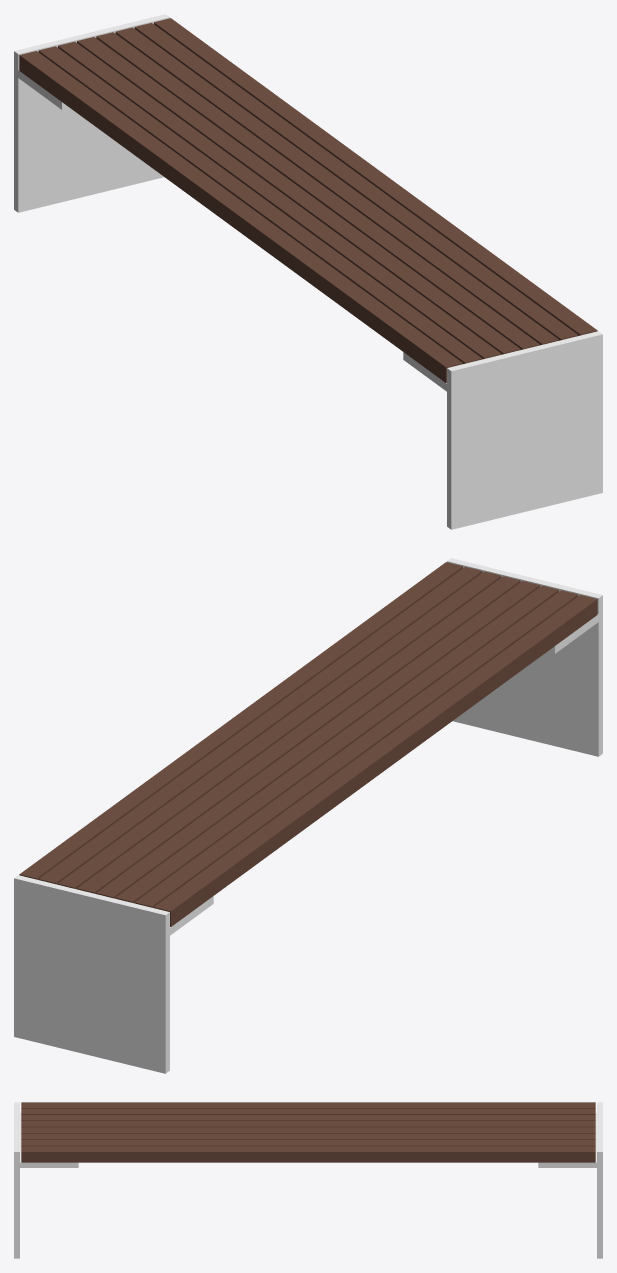
The model's file is Bench02.fbx.
3 views of the same model, one above another, from view 1: azimuth 30°, elevation 25°; view 2: azimuth 150°, elevation 25°; view 3: azimuth 270°, elevation 25° (orthographic). The views are drawn at different scales.
Parts seen in each view (by area): view 1: Model; view 2: Model; view 3: Model.
Part boxes in pixels (x1,y1,x2,y2): Model: (14,14,602,529); Model: (14,558,602,1073); Model: (14,1102,602,1258).
Bounding box in the file's own units: 0.4 × 0.4 × 2.
